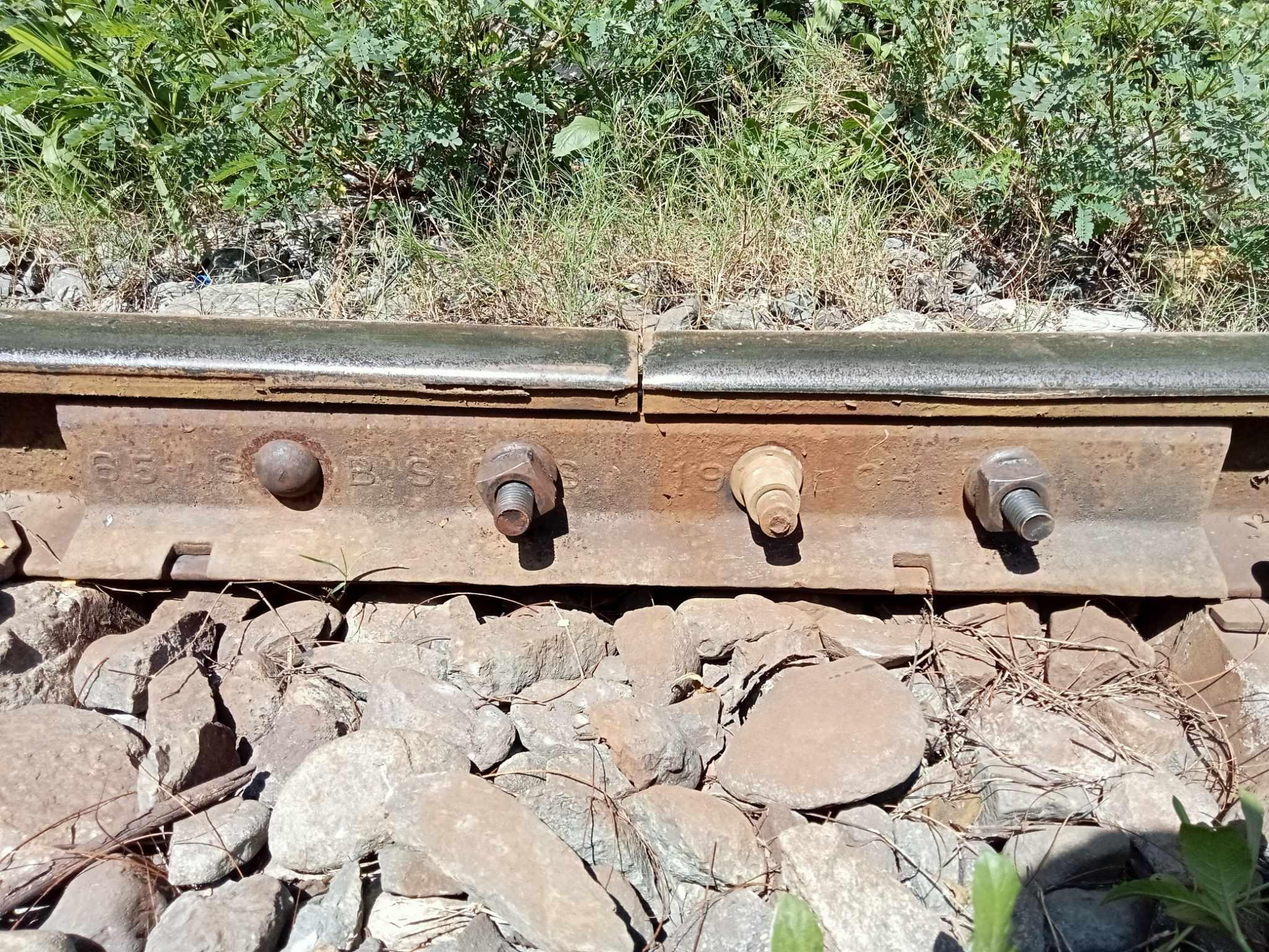railway-gap: (561, 302, 718, 432)
